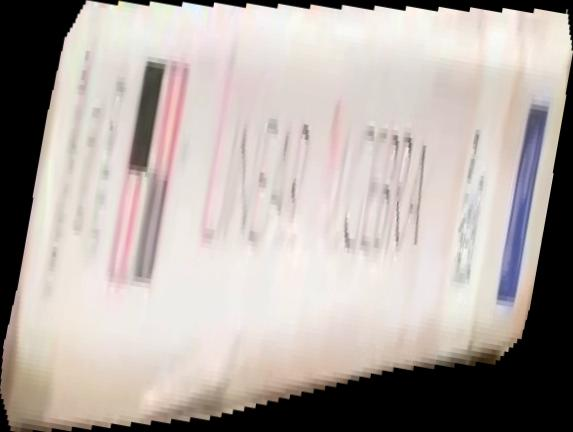flat: (1, 1, 573, 432)
